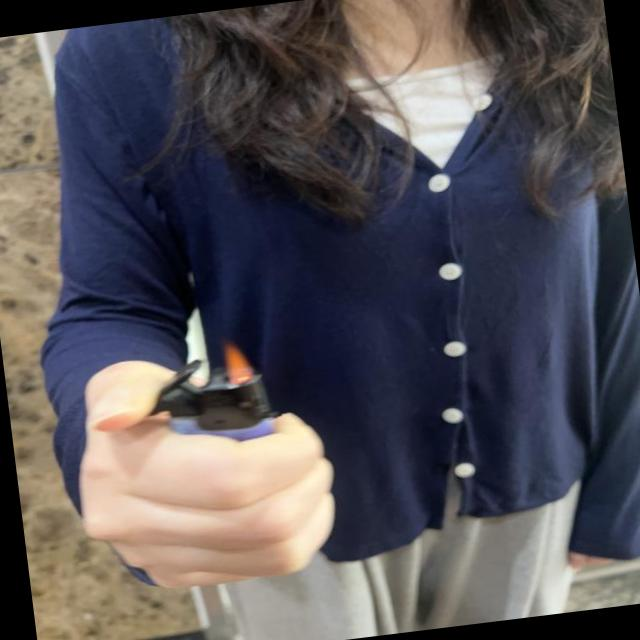Fire: (216, 337, 258, 385)
